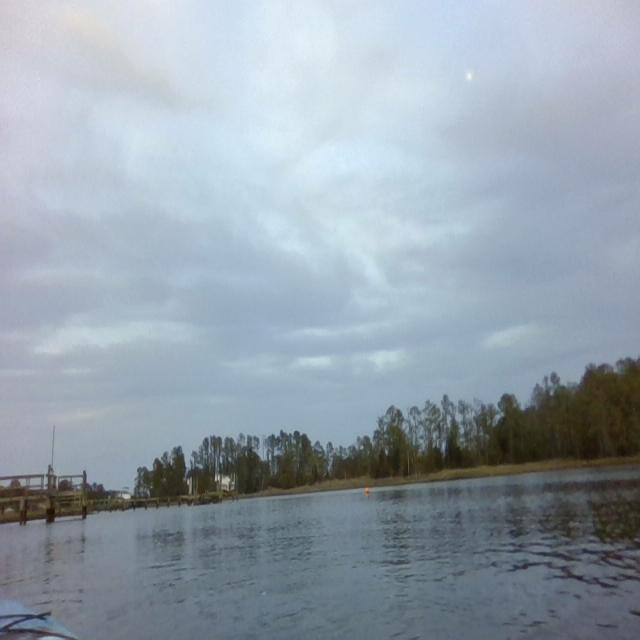Buoy: (362, 484, 371, 497)
